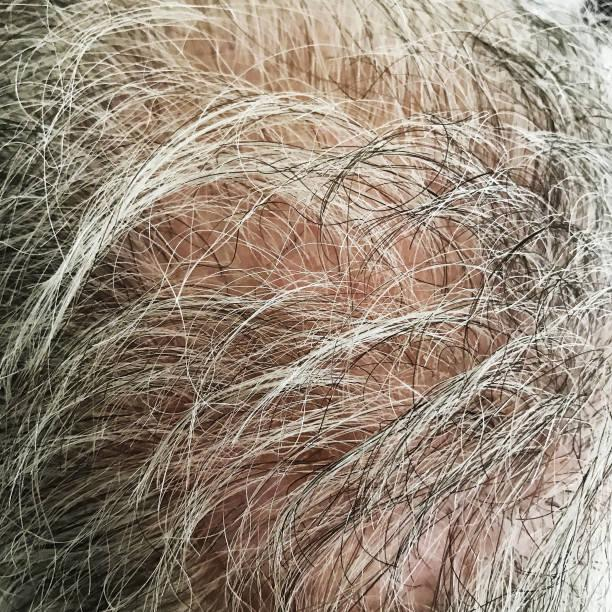grey hair: (22, 81, 77, 276), (17, 399, 62, 583), (227, 338, 339, 394), (173, 366, 203, 572)
low hair density: (152, 177, 330, 290), (378, 501, 488, 587), (391, 224, 467, 303), (192, 34, 249, 77)
